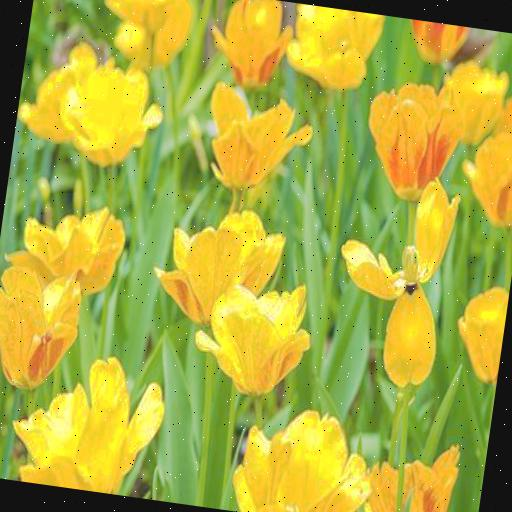tulip: (324, 172, 462, 388), (4, 344, 169, 500), (146, 196, 288, 334), (224, 397, 383, 512), (186, 272, 320, 403), (200, 76, 320, 201), (358, 68, 466, 202), (452, 284, 509, 385)
